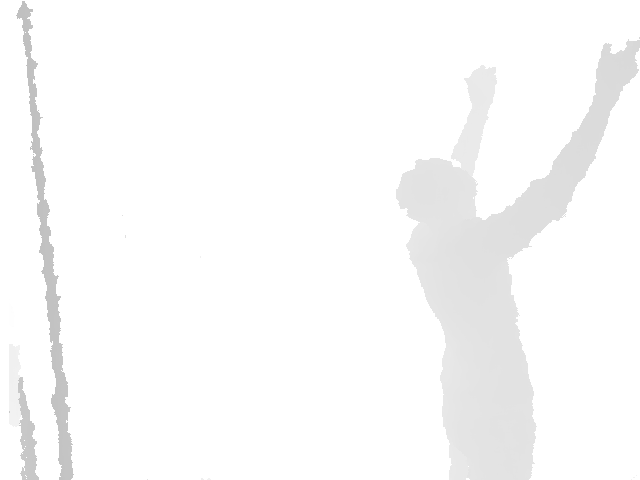hand: (594, 38, 640, 106), (463, 65, 498, 112)
head: (395, 158, 478, 225)
person: (396, 38, 640, 480)
